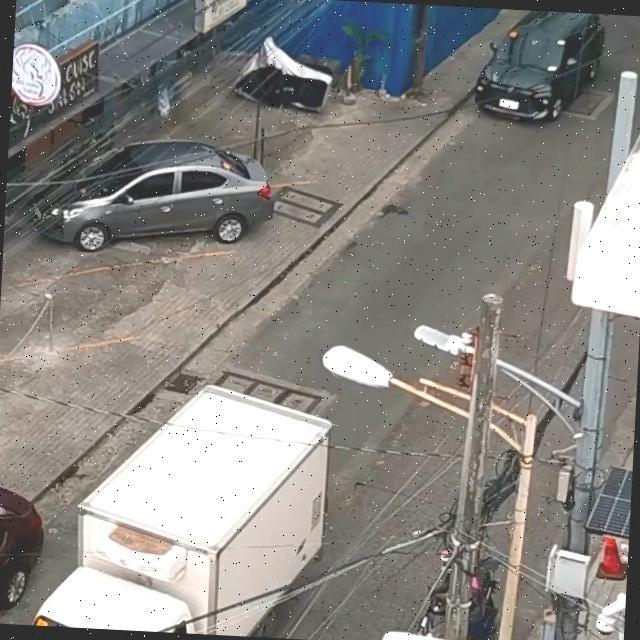Truck: (18, 377, 320, 640)
